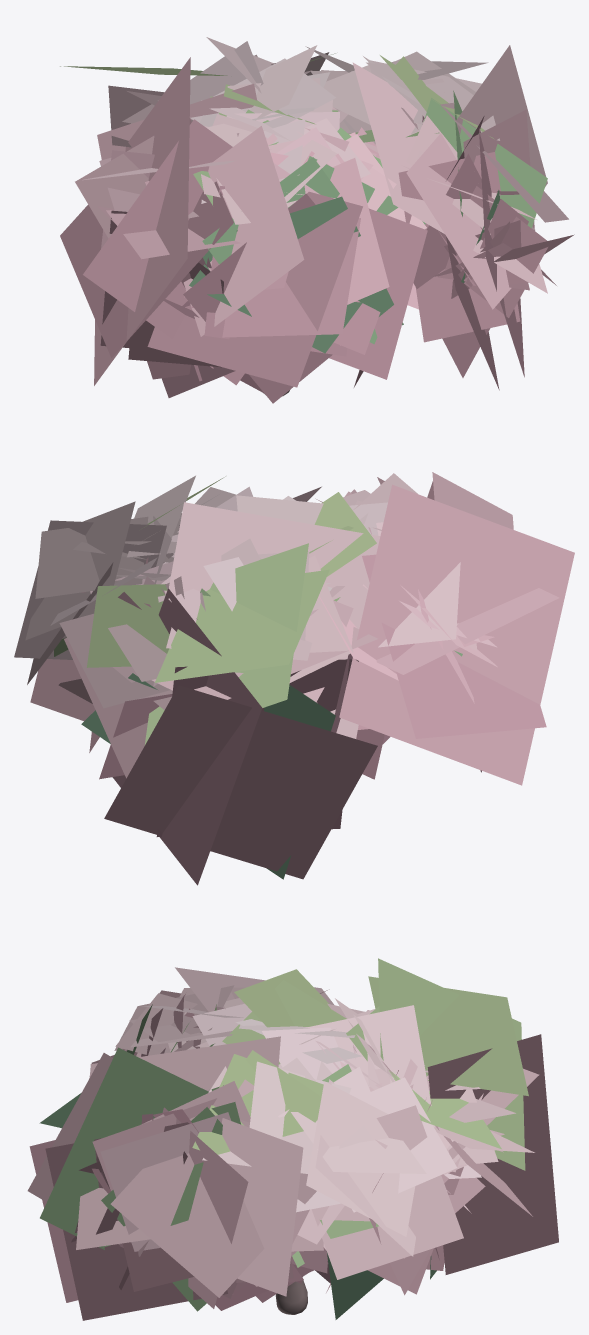
The model's file is wild_cherry_v2.glb.
3 views of the same model, one above another, from view 1: azimuth 30°, elevation 25°; view 2: azimuth 150°, elevation 25°; view 3: azimuth 270°, elevation 25° (orthographic). The views are drawn at different scales.
Parts seen in each view (by area): view 1: far, near; view 2: far, near; view 3: near, far.
Boxes of the visible parts, <box> form: far: <box>60,37,547,390</box>; near: <box>75,41,574,403</box>; far: <box>64,472,574,885</box>; near: <box>14,473,497,779</box>; near: <box>71,969,534,1319</box>; far: <box>27,958,558,1320</box>.
Size of the model in its own units: 13.38 by 9.47 by 13.55.
